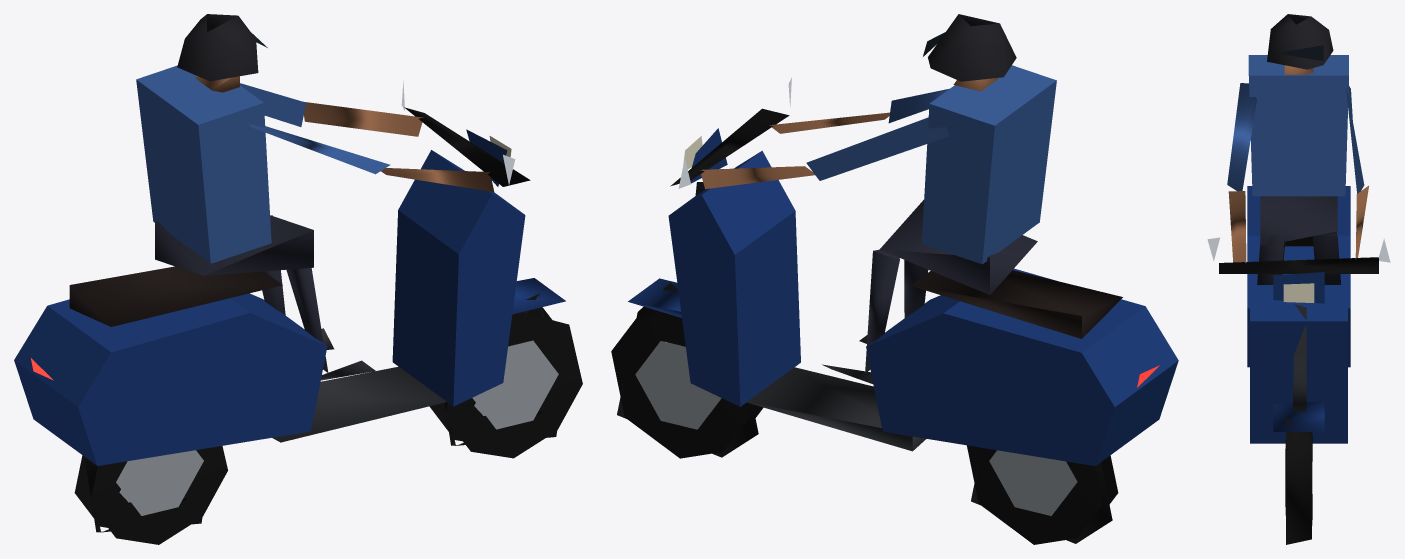
The model's file is scooter_lod1.glb.
The picture shows the model from 3 angles, left to right: view 1: azimuth 30°, elevation 25°; view 2: azimuth 150°, elevation 25°; view 3: azimuth 270°, elevation 25°; orthographic projection. The views are drawn at different scales.
Visible parts, largest first — view 1: scooter_body, wheel_f, wheel_r; view 2: scooter_body, wheel_f, wheel_r; view 3: scooter_body, wheel_f.
Part boxes in pixels (x1,y1,x2,y2): scooter_body: (14,14,565,465); wheel_f: (429,294,582,458); wheel_r: (74,446,227,544); scooter_body: (628,14,1178,466); wheel_f: (611,282,763,458); wheel_r: (967,445,1118,544); scooter_body: (1207,14,1390,443); wheel_f: (1285,419,1312,544).
Bounding box in the file's own units: 1.92 × 1.74 × 0.71.
Materials: 2 (1 with a texture image).
